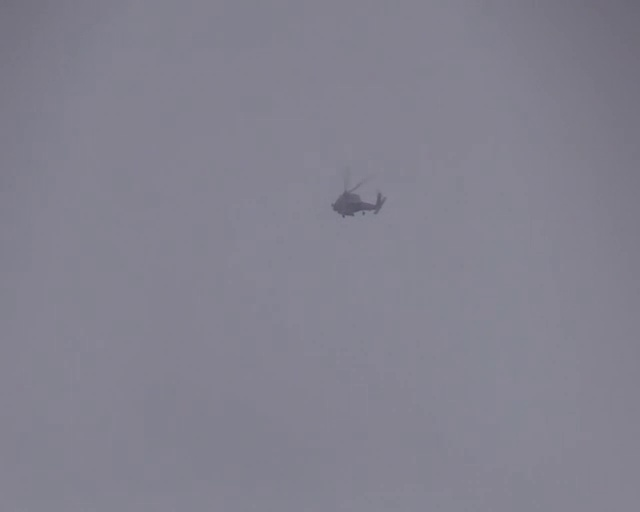HELICOPTER: (330, 165, 386, 218)
